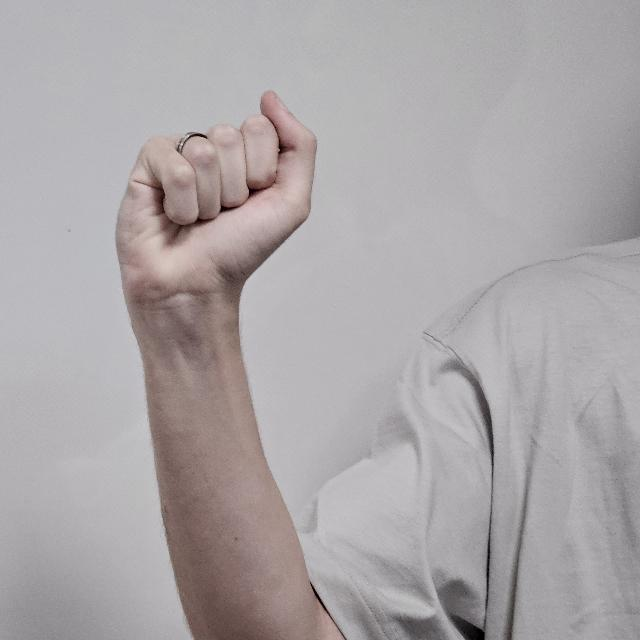Quadro: (114, 90, 320, 304)
